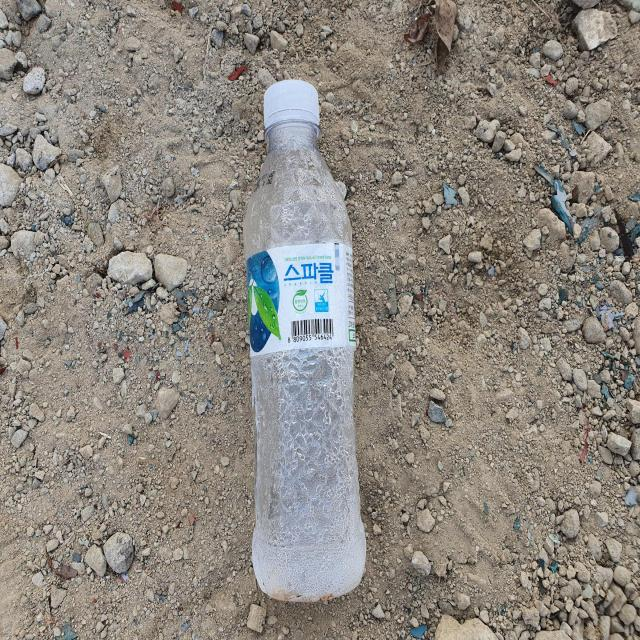plastic: (244, 79, 366, 602)
